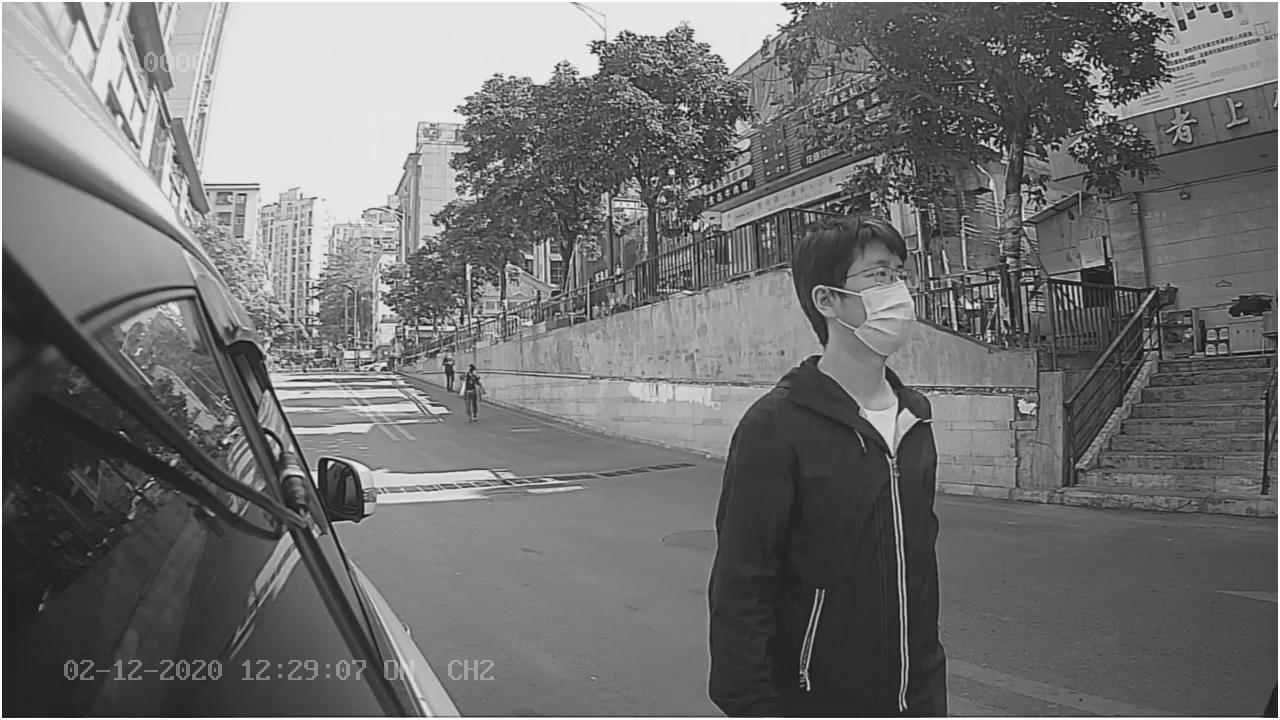person: (710, 205, 962, 562)
